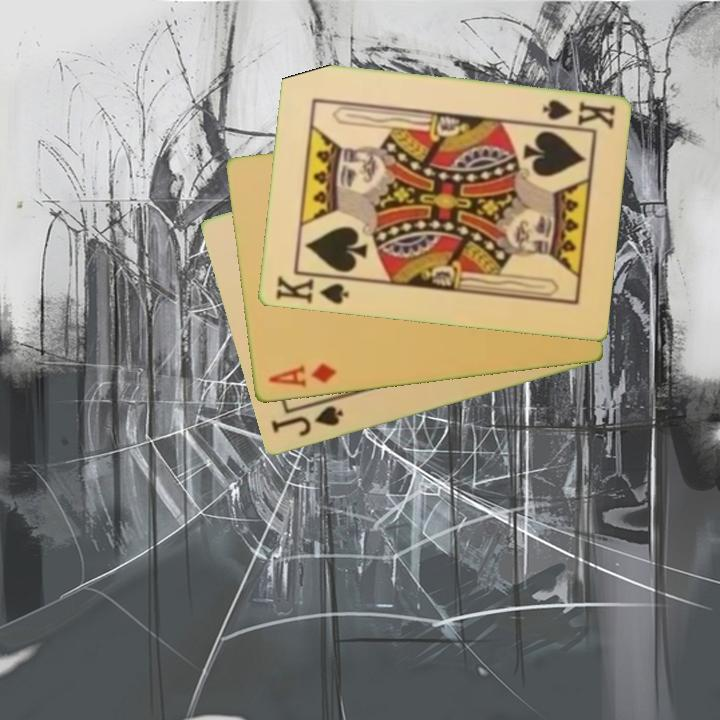Ad: (264, 360, 339, 391)
Js: (267, 402, 346, 440)
Ks: (272, 270, 353, 308), (539, 96, 618, 132)
